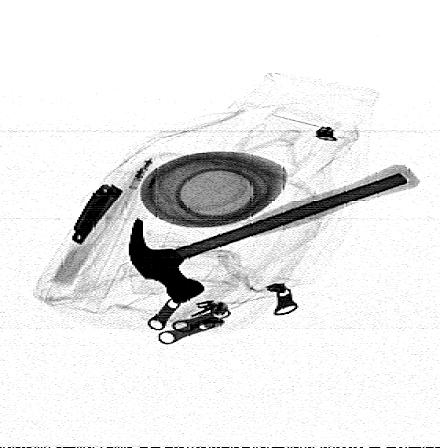Hammer: (127, 164, 421, 305)
